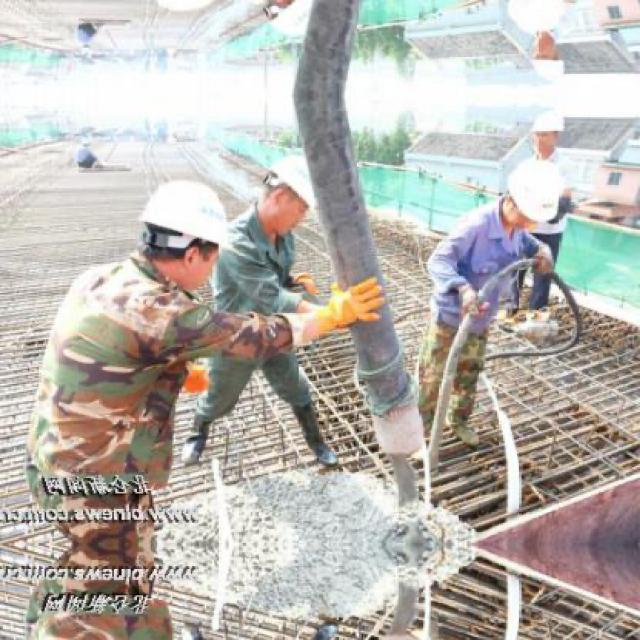helmet: (131, 171, 240, 296), (259, 148, 326, 239), (500, 153, 568, 228), (257, 0, 326, 45), (498, 0, 568, 40), (529, 106, 569, 158), (529, 36, 569, 86)
